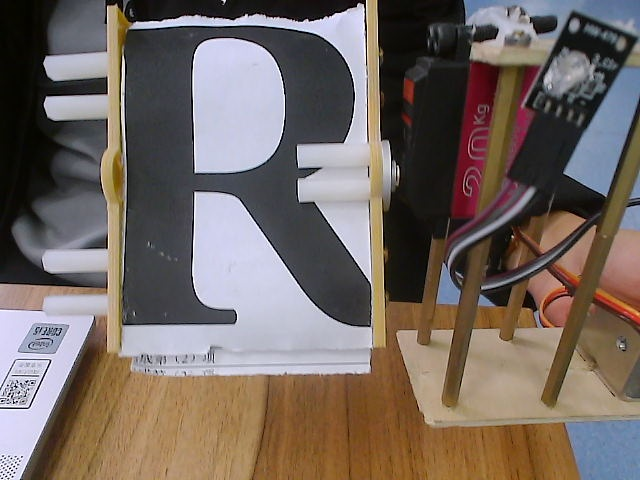R: (49, 1, 422, 431)
